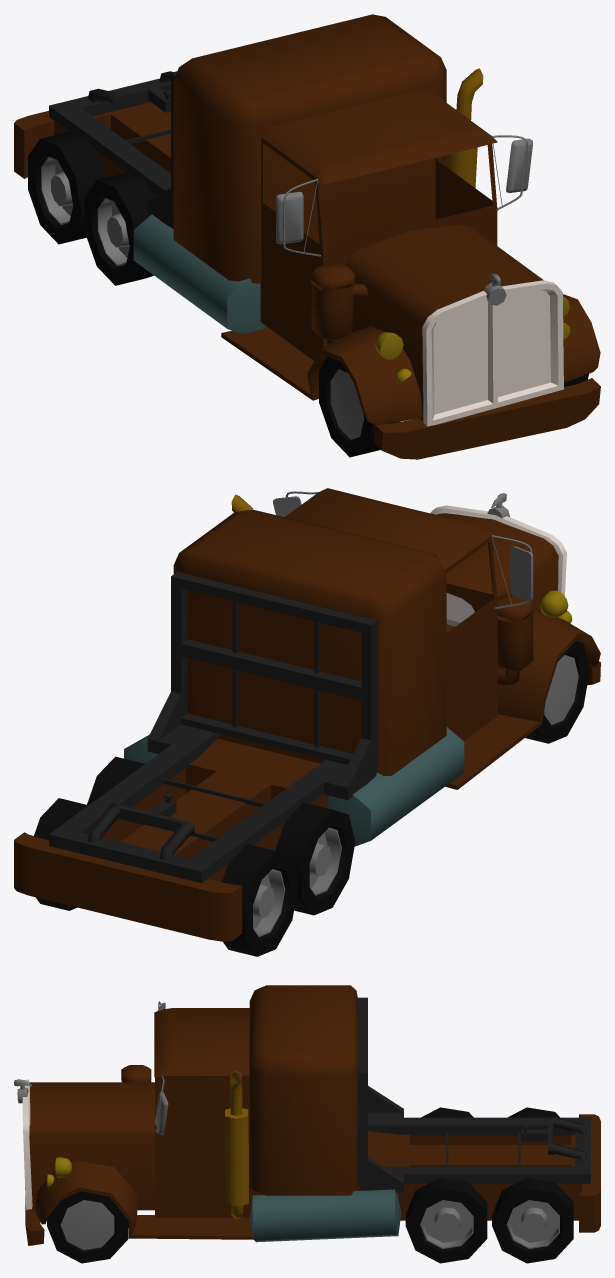
File: low poli truck substance.fbx
3 views of the same model, one above another, from view 1: azimuth 30°, elevation 25°; view 2: azimuth 150°, elevation 25°; view 3: azimuth 270°, elevation 25° (orthographic). The views are drawn at different scales.
Visible parts, largest first — view 1: cabbin Lowpoly uvd, back chasis Lowpoly uvd, front grill Lowpoly uvd, truck's back thingy Lowpoly uvd, OilTank Lowpoly uvd, tyre Lowpoly uvd 003, tyre Lowpoly uvd 002, side mirrors Lowpoly uvd, tyre Lowpoly uvd 001, front wheels Lowpoly uvd, exhaust Lowpoly uvd, rear wheel Lowpoly uvd 001 (+2 smaller); view 2: back chasis Lowpoly uvd, truck's back thingy Lowpoly uvd, cabbin Lowpoly uvd, OilTank Lowpoly uvd, tyre Lowpoly uvd 002, tyre Lowpoly uvd 003, front grill Lowpoly uvd, side mirrors Lowpoly uvd, tyre Lowpoly uvd 001, front wheels Lowpoly uvd, rear wheel Lowpoly uvd 001, rear wheel Lowpoly uvd 002 (+1 smaller); view 3: cabbin Lowpoly uvd, back chasis Lowpoly uvd, truck's back thingy Lowpoly uvd, OilTank Lowpoly uvd, tyre Lowpoly uvd 002, tyre Lowpoly uvd 003, exhaust Lowpoly uvd, tyre Lowpoly uvd 001, front wheels Lowpoly uvd, rear wheel Lowpoly uvd 001, rear wheel Lowpoly uvd 002, front grill Lowpoly uvd (+2 smaller).
Boxes of the visible parts, left/top/right/bottom form: cabbin Lowpoly uvd: left=221, top=88, right=600, bottom=459; back chasis Lowpoly uvd: left=14, top=14, right=446, bottom=283; front grill Lowpoly uvd: left=422, top=280, right=563, bottom=426; truck's back thingy Lowpoly uvd: left=49, top=71, right=177, bottom=228; OilTank Lowpoly uvd: left=133, top=214, right=266, bottom=333; tyre Lowpoly uvd 003: left=28, top=131, right=105, bottom=244; tyre Lowpoly uvd 002: left=84, top=173, right=153, bottom=285; side mirrors Lowpoly uvd: left=276, top=135, right=532, bottom=256; tyre Lowpoly uvd 001: left=319, top=357, right=588, bottom=457; front wheels Lowpoly uvd: left=330, top=369, right=364, bottom=439; exhaust Lowpoly uvd: left=445, top=68, right=483, bottom=188; rear wheel Lowpoly uvd 001: left=97, top=198, right=129, bottom=266; back chasis Lowpoly uvd: left=14, top=510, right=446, bottom=941; truck's back thingy Lowpoly uvd: left=49, top=571, right=378, bottom=883; cabbin Lowpoly uvd: left=285, top=488, right=600, bottom=789; OilTank Lowpoly uvd: left=124, top=727, right=464, bottom=846; tyre Lowpoly uvd 002: left=87, top=756, right=355, bottom=915; tyre Lowpoly uvd 003: left=34, top=798, right=298, bottom=956; front grill Lowpoly uvd: left=430, top=505, right=566, bottom=626; side mirrors Lowpoly uvd: left=273, top=491, right=533, bottom=608; tyre Lowpoly uvd 001: left=525, top=641, right=589, bottom=743; front wheels Lowpoly uvd: left=544, top=655, right=578, bottom=724; rear wheel Lowpoly uvd 001: left=309, top=827, right=341, bottom=895; rear wheel Lowpoly uvd 002: left=253, top=869, right=285, bottom=936; cabbin Lowpoly uvd: left=25, top=1008, right=253, bottom=1245; back chasis Lowpoly uvd: left=249, top=985, right=600, bottom=1232; truck's back thingy Lowpoly uvd: left=357, top=997, right=590, bottom=1192; OilTank Lowpoly uvd: left=250, top=1189, right=401, bottom=1242; tyre Lowpoly uvd 002: left=405, top=1107, right=487, bottom=1263; tyre Lowpoly uvd 003: left=492, top=1107, right=573, bottom=1263; exhaust Lowpoly uvd: left=225, top=1070, right=248, bottom=1219; tyre Lowpoly uvd 001: left=47, top=1191, right=128, bottom=1263; front wheels Lowpoly uvd: left=60, top=1200, right=114, bottom=1250; rear wheel Lowpoly uvd 001: left=420, top=1200, right=473, bottom=1248; rear wheel Lowpoly uvd 002: left=506, top=1200, right=559, bottom=1248; front grill Lowpoly uvd: left=22, top=1079, right=32, bottom=1209.
Bounding box in the file's own units: 540 × 533 × 1395.
